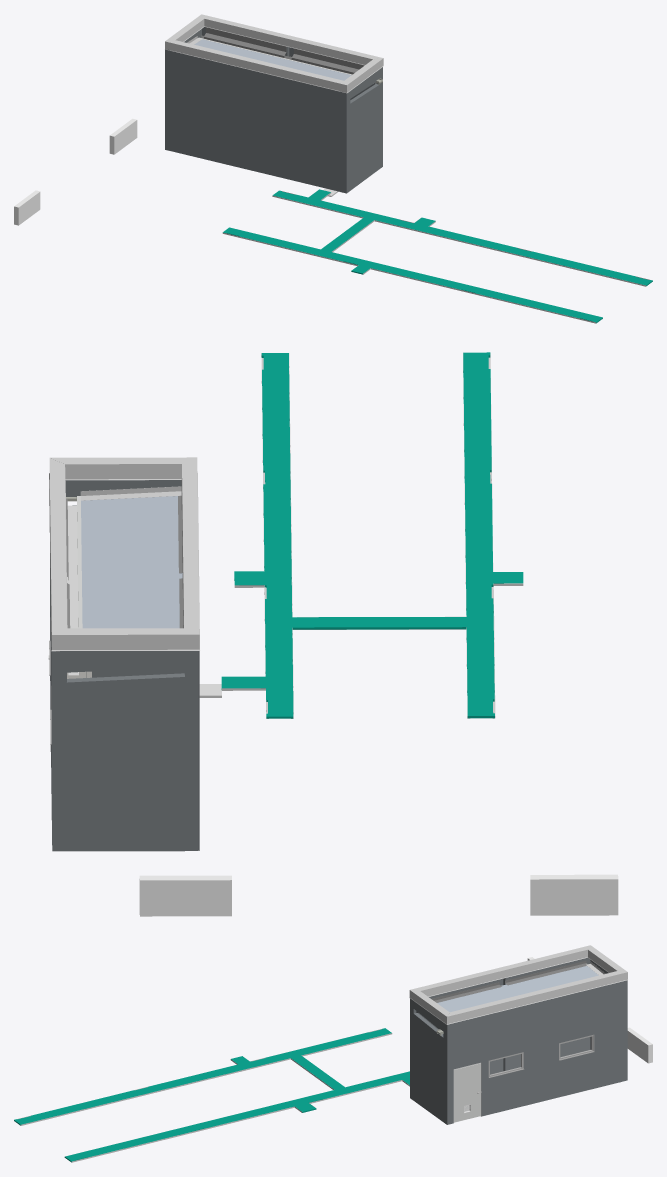
The model's file is pt106-l1t1-1542-106-con-ed-arq-mo-0002-r01.glb.
3 views of the same model, one above another, from view 1: azimuth 30°, elevation 25°; view 2: azimuth 150°, elevation 25°; view 3: azimuth 270°, elevation 25° (orthographic). The views are drawn at different scales.
Visible parts, largest first — view 1: 0lFRtOo6vE4hP1sete$gR5, 3ttB7NcSL8FRPF8H8VToNE, 0P6YplJej1HelfWFMb2s0M, 0lFRtOo6vE4hP1sete$gdC, 30UAeSGAn7NvvRY0VOiGCP, 0tRgeM2$z6YuSv6fJG97BV, 3noPtGOq98Mw9NmEgxrtXR, 06BwVoAHD75OMpo1TGDj9$, 1hIxWMbY9Fh8xYQMAxXE11, 2RKMqnEcXA$Q1Ah7GI5c76, 2RKMqnEcXA$Q1Ah7GI5cCp, 0P6YplJej1HelfWFMb2s0X (+5 smaller); view 2: 0P6YplJej1HelfWFMb2s0M, 0lFRtOo6vE4hP1sete$gPA, 3noPtGOq98Mw9NmEgxrtXR, 0P6YplJej1HelfWFMb2s0X, 0P6YplJej1HelfWFMb2s0W, 30UAeSGAn7NvvRY0VOiGIJ, 2RKMqnEcXA$Q1Ah7GI5cBk, 0tRgeM2$z6YuSv6fJG97BV, 30UAeSGAn7NvvRY0VOiGCP, 30UAeSGAn7NvvRY0VOiGA7, 2RKMqnEcXA$Q1Ah7GI5cFz, 0lFRtOo6vE4hP1sete$gdC (+2 smaller); view 3: 22__WPLer909_CS5wVMRx4, 0lFRtOo6vE4hP1sete$gOH, 0P6YplJej1HelfWFMb2s0M, 0lFRtOo6vE4hP1sete$gdC, 0tRgeM2$z6YuSv6fJG97BV, 30UAeSGAn7NvvRY0VOiGCP, 3noPtGOq98Mw9NmEgxrtXR, 3noPtGOq98Mw9NmEYxrtkc, 0lFRtOo6vE4hP1sete$gR5, 2RKMqnEcXA$Q1Ah7GI5cAk, 2RKMqnEcXA$Q1Ah7GI5c0G, 22__WPLer909_CS5wVMRvn (+10 smaller).
Boxes of the visible parts, left/top/right/bottom form: 0lFRtOo6vE4hP1sete$gR5: left=171, top=51, right=252, bottom=170; 3ttB7NcSL8FRPF8H8VToNE: left=259, top=72, right=340, bottom=191; 0P6YplJej1HelfWFMb2s0M: left=223, top=189, right=652, bottom=323; 0lFRtOo6vE4hP1sete$gdC: left=350, top=69, right=379, bottom=190; 30UAeSGAn7NvvRY0VOiGCP: left=165, top=40, right=346, bottom=93; 0tRgeM2$z6YuSv6fJG97BV: left=201, top=14, right=383, bottom=65; 3noPtGOq98Mw9NmEgxrtXR: left=194, top=39, right=351, bottom=80; 06BwVoAHD75OMpo1TGDj9$: left=204, top=27, right=286, bottom=57; 1hIxWMbY9Fh8xYQMAxXE11: left=291, top=48, right=364, bottom=74; 2RKMqnEcXA$Q1Ah7GI5c76: left=340, top=91, right=346, bottom=193; 2RKMqnEcXA$Q1Ah7GI5cCp: left=165, top=49, right=171, bottom=150; 0P6YplJej1HelfWFMb2s0X: left=109, top=118, right=137, bottom=154; 0P6YplJej1HelfWFMb2s0M: left=221, top=352, right=523, bottom=718; 0lFRtOo6vE4hP1sete$gPA: left=66, top=651, right=184, bottom=851; 3noPtGOq98Mw9NmEgxrtXR: left=81, top=496, right=182, bottom=628; 0P6YplJej1HelfWFMb2s0X: left=139, top=875, right=231, bottom=916; 0P6YplJej1HelfWFMb2s0W: left=530, top=874, right=618, bottom=915; 30UAeSGAn7NvvRY0VOiGIJ: left=51, top=628, right=199, bottom=651; 2RKMqnEcXA$Q1Ah7GI5cBk: left=52, top=651, right=66, bottom=851; 0tRgeM2$z6YuSv6fJG97BV: left=49, top=458, right=67, bottom=650; 30UAeSGAn7NvvRY0VOiGCP: left=181, top=457, right=199, bottom=649; 30UAeSGAn7NvvRY0VOiGA7: left=50, top=457, right=196, bottom=480; 2RKMqnEcXA$Q1Ah7GI5cFz: left=185, top=651, right=198, bottom=850; 0lFRtOo6vE4hP1sete$gdC: left=65, top=480, right=182, bottom=677; 22__WPLer909_CS5wVMRx4: left=540, top=982, right=621, bottom=1101; 0lFRtOo6vE4hP1sete$gOH: left=453, top=1003, right=534, bottom=1116; 0P6YplJej1HelfWFMb2s0M: left=14, top=1028, right=409, bottom=1162; 0lFRtOo6vE4hP1sete$gdC: left=413, top=1001, right=443, bottom=1121; 0tRgeM2$z6YuSv6fJG97BV: left=447, top=971, right=627, bottom=1024; 30UAeSGAn7NvvRY0VOiGCP: left=410, top=945, right=590, bottom=996; 3noPtGOq98Mw9NmEgxrtXR: left=437, top=966, right=598, bottom=1012; 3noPtGOq98Mw9NmEYxrtkc: left=453, top=1062, right=481, bottom=1122; 0lFRtOo6vE4hP1sete$gR5: left=503, top=958, right=586, bottom=1071; 2RKMqnEcXA$Q1Ah7GI5cAk: left=621, top=980, right=627, bottom=1081; 2RKMqnEcXA$Q1Ah7GI5c0G: left=447, top=1023, right=453, bottom=1124; 22__WPLer909_CS5wVMRvn: left=534, top=1002, right=540, bottom=1103.
Bounding box in the file's own units: 17.39 × 4.79 × 23.54.
